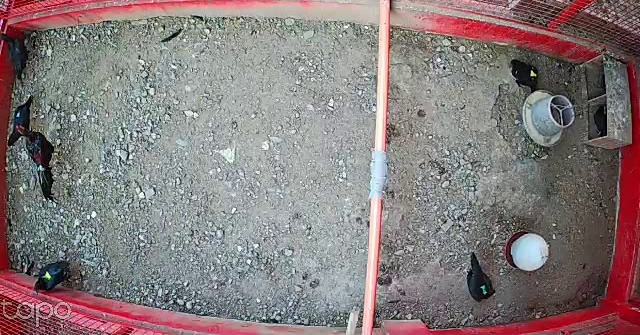Chicken: (0, 29, 36, 93), (5, 93, 39, 150), (31, 257, 73, 300), (463, 250, 497, 301), (508, 55, 542, 95)
Rooster: (15, 123, 63, 206)
Saddle_Color_Blue: (15, 112, 22, 118)
Saddle_Color_Yellow: (45, 270, 52, 281), (528, 70, 537, 78)
